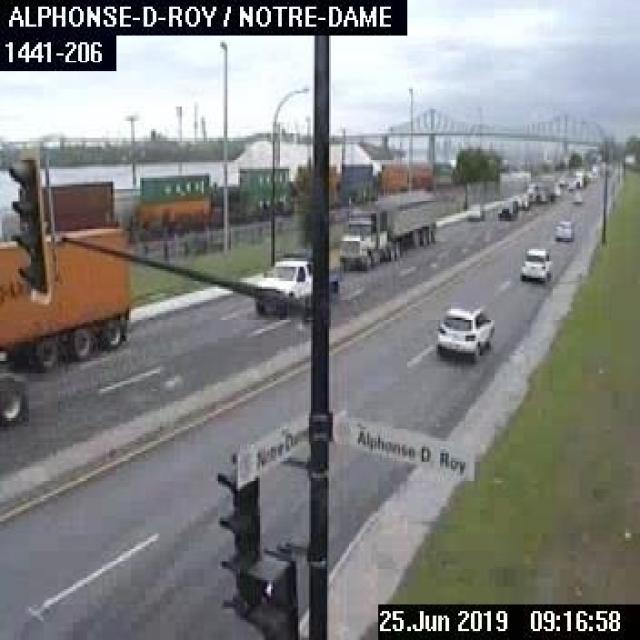vehicle: (0, 222, 129, 374), (336, 184, 436, 269), (256, 254, 337, 318), (433, 300, 496, 358), (518, 244, 551, 280), (554, 217, 573, 240), (495, 198, 516, 218), (464, 201, 484, 221), (513, 192, 527, 207), (570, 190, 581, 203)
